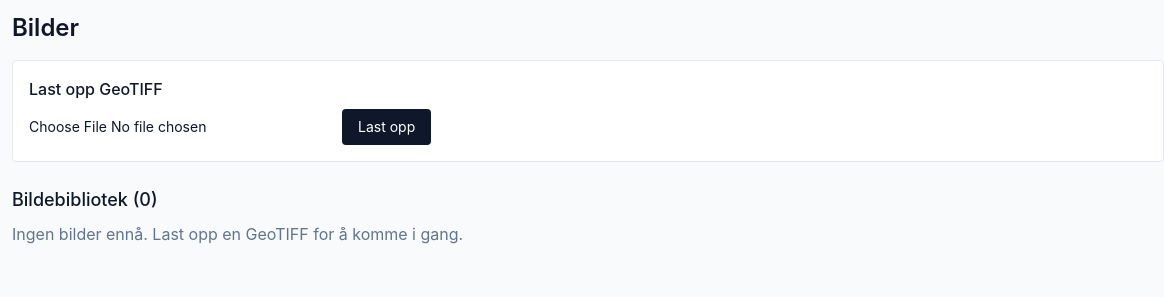
Scenario: ImagesPage › shows the API's reason when an upload is rejected
Earlier steps of the test are not shown.
Expected: the text "Ingen bilder ennå. Last opp en GeoTIFF for å komme i gang." is shown, [12,224,463,244]
What coordinates should you click on to do the following:
click the button "Last opp"
I would click on:
 (387, 127)
Its box is [342,109,431,145].
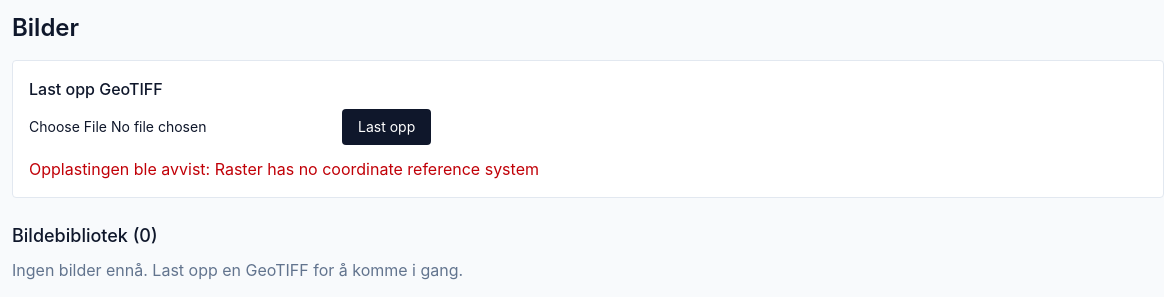
Now the message reads "Opplastingen ble avvist: Raster has no coordinate reference system", box [29,159,539,179]
